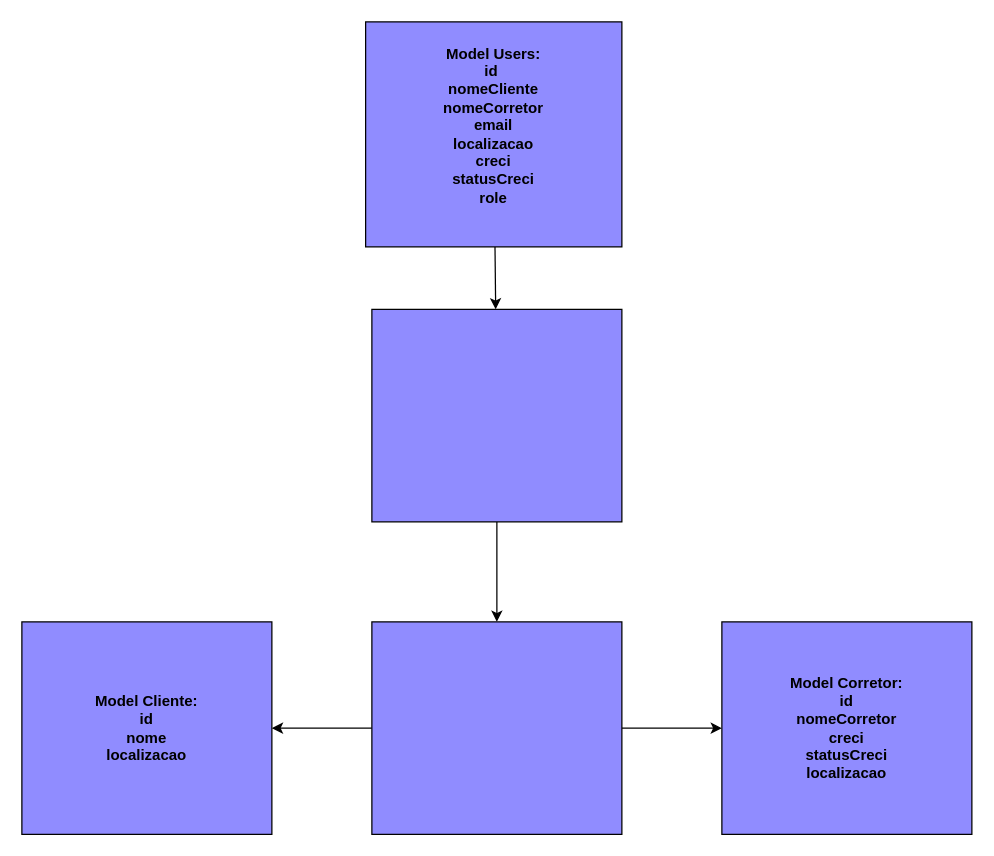
Image size: 994x856. Some labels were removed from this diagram. The centre of each missing label's shape, as x and y in pixels:
"Enum Roles: [user] [corretor] [cliente]" belongs at point (496, 415).
"Model User: Email" belongs at point (496, 727).
